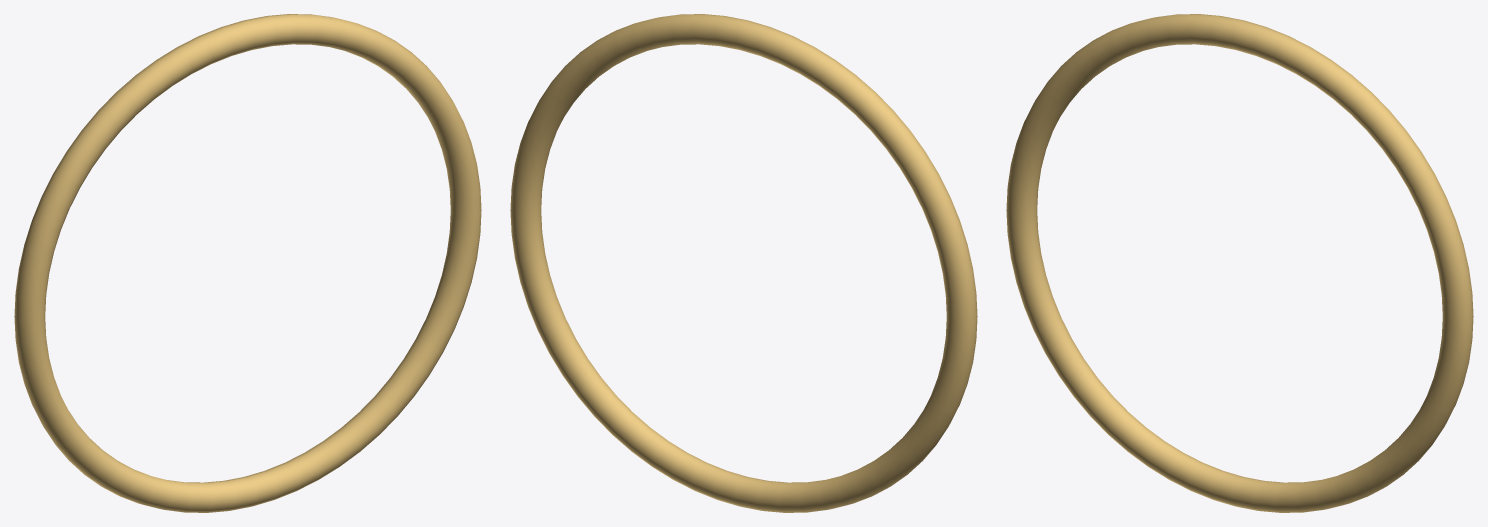
3 renders of one model, left to right at view 1: azimuth 30°, elevation 25°; view 2: azimuth 150°, elevation 25°; view 3: azimuth 330°, elevation 25°, orthographic.
Size of the model in its own units: 1.91 by 1.91 by 0.11.
